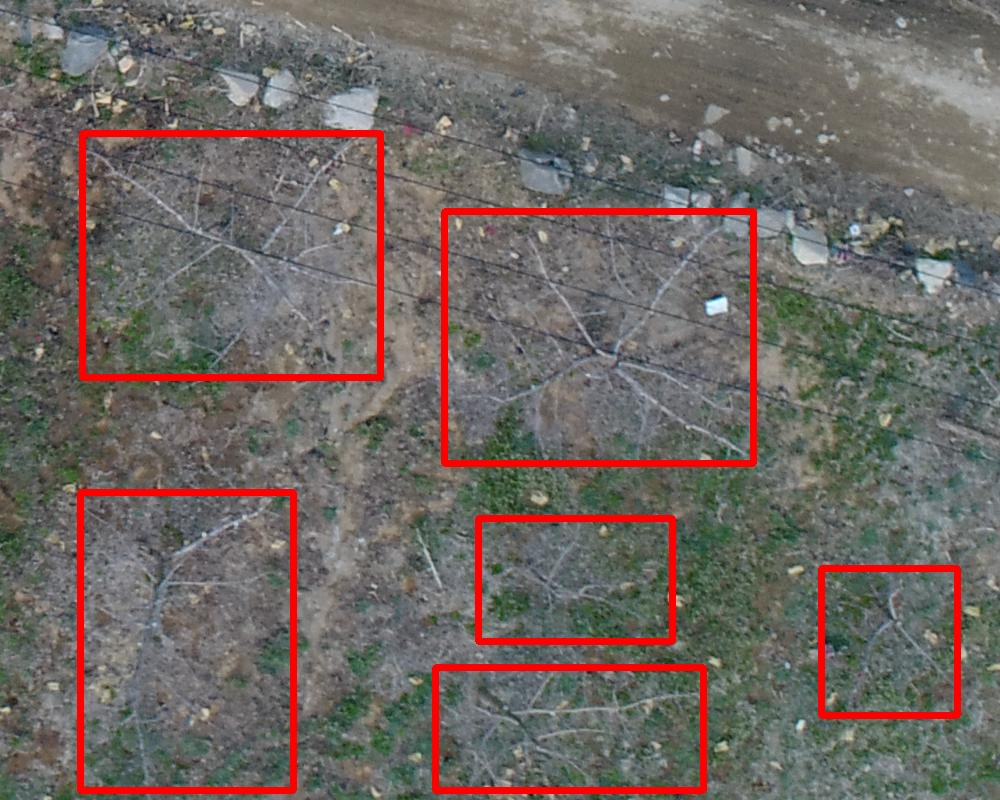apple: (444, 211, 753, 463), (82, 133, 380, 377), (80, 492, 293, 790), (435, 667, 703, 790), (478, 518, 672, 641), (821, 568, 957, 715)
